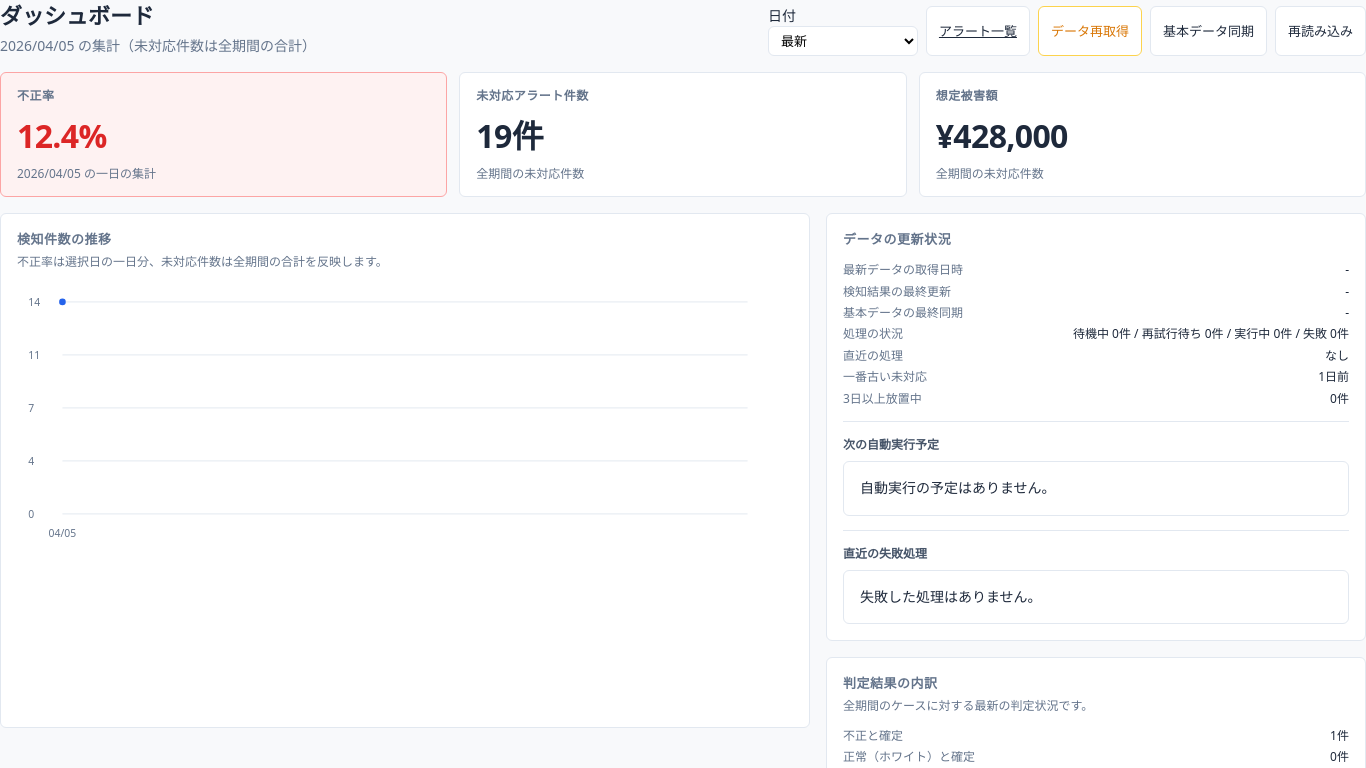
Test: DashboardScreen › starts master sync from the action area
Click the button "基本データ同期": (1208, 31) [1150,6,1267,56]
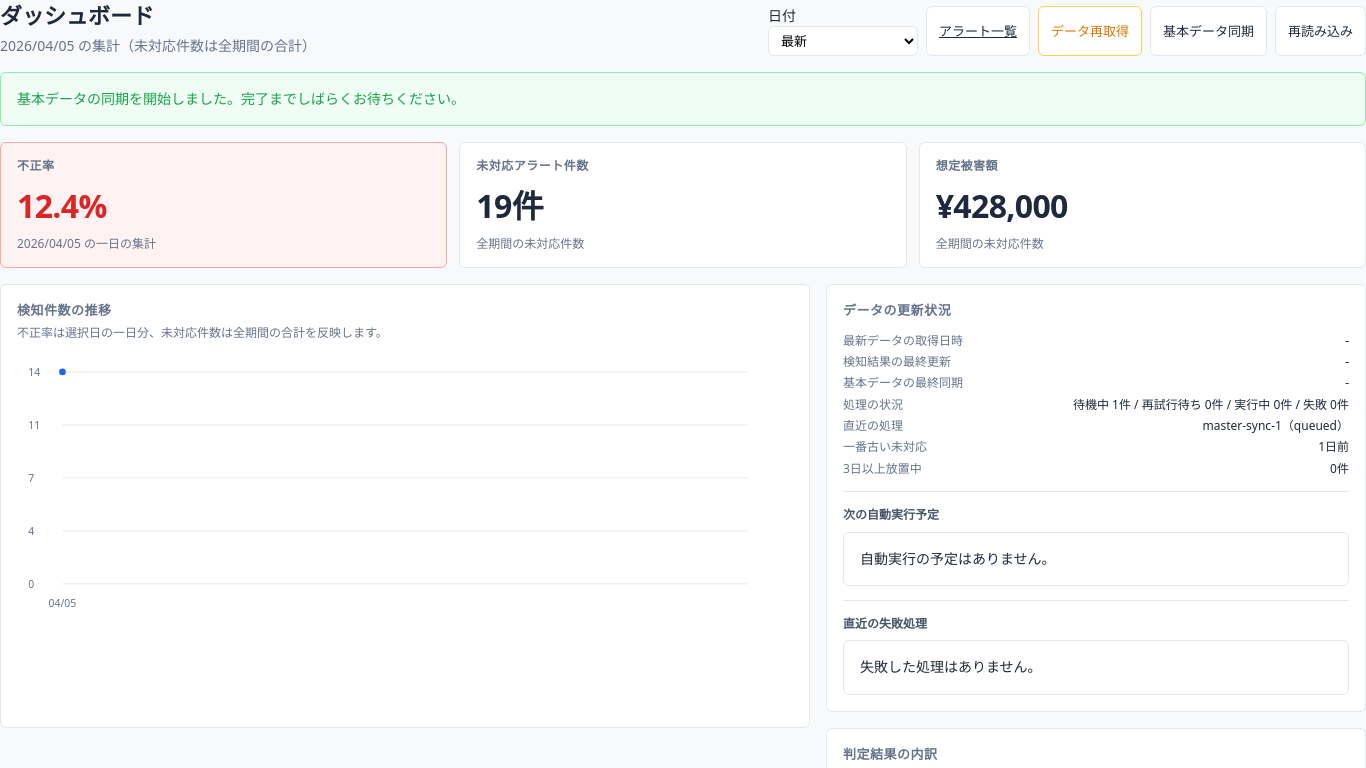
Result: the text "基本データの同期を開始しました。完了までしばらくお待ちください。" is shown at [0,72,1365,126]
Result: the text "master-sync-1（queued）" is shown at [1202,417,1349,434]
